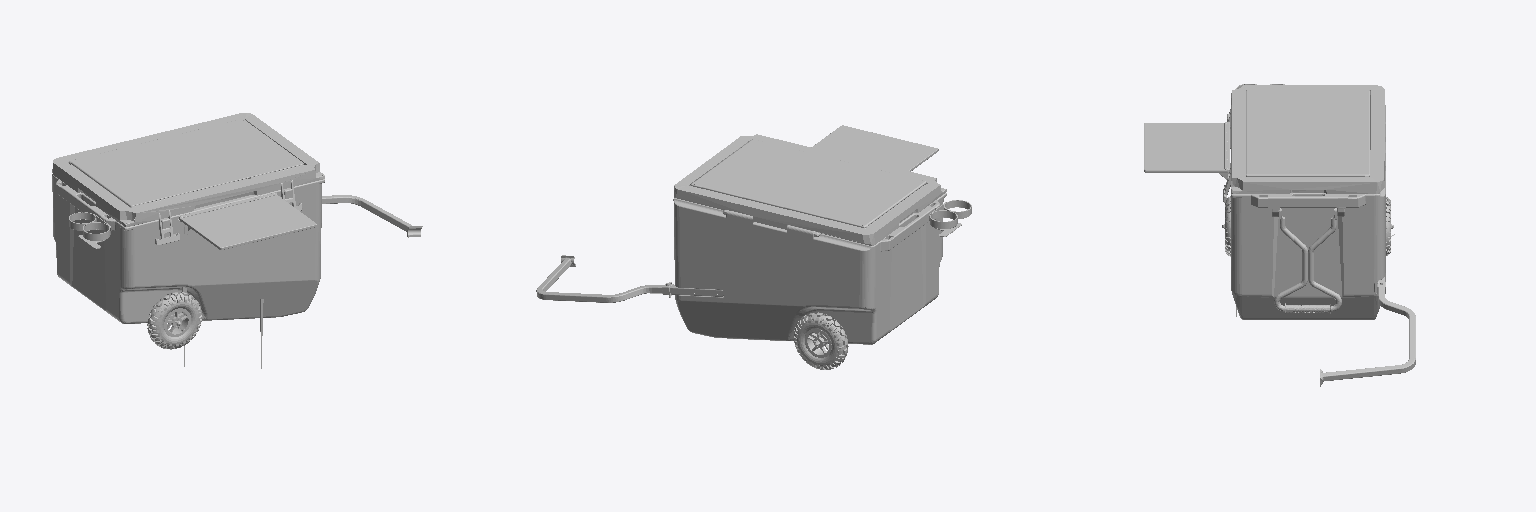
Rendered from rovr-cooler_v2_01_deci02.obj.
The picture shows the model from 3 angles: view 1: azimuth 30°, elevation 25°; view 2: azimuth 150°, elevation 25°; view 3: azimuth 270°, elevation 25°; orthographic projection.
Bounding box in the file's own units: 6.82 × 3.39 × 4.3.